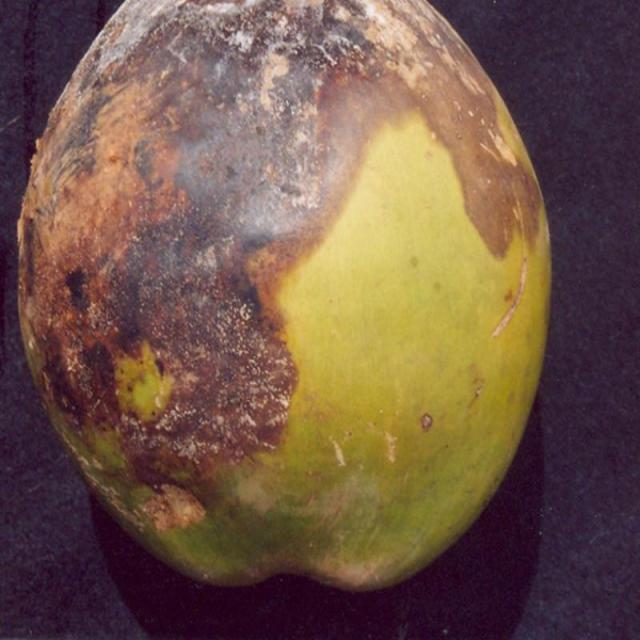damaged: (18, 0, 550, 588)
